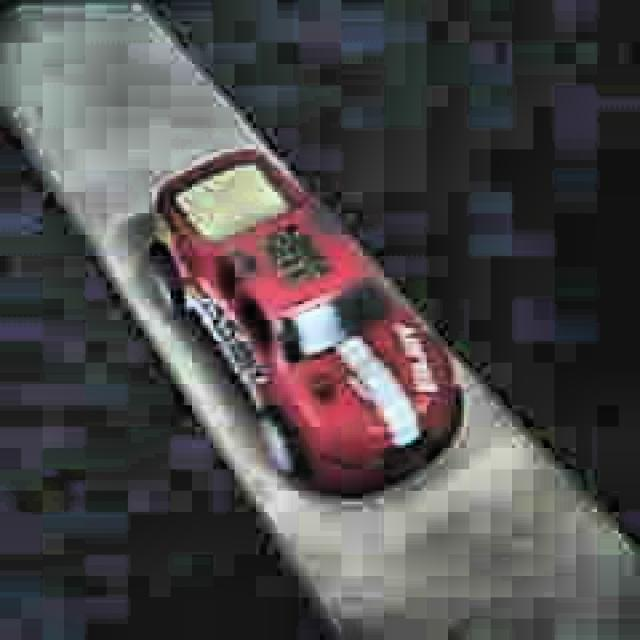car: (146, 146, 468, 506)
